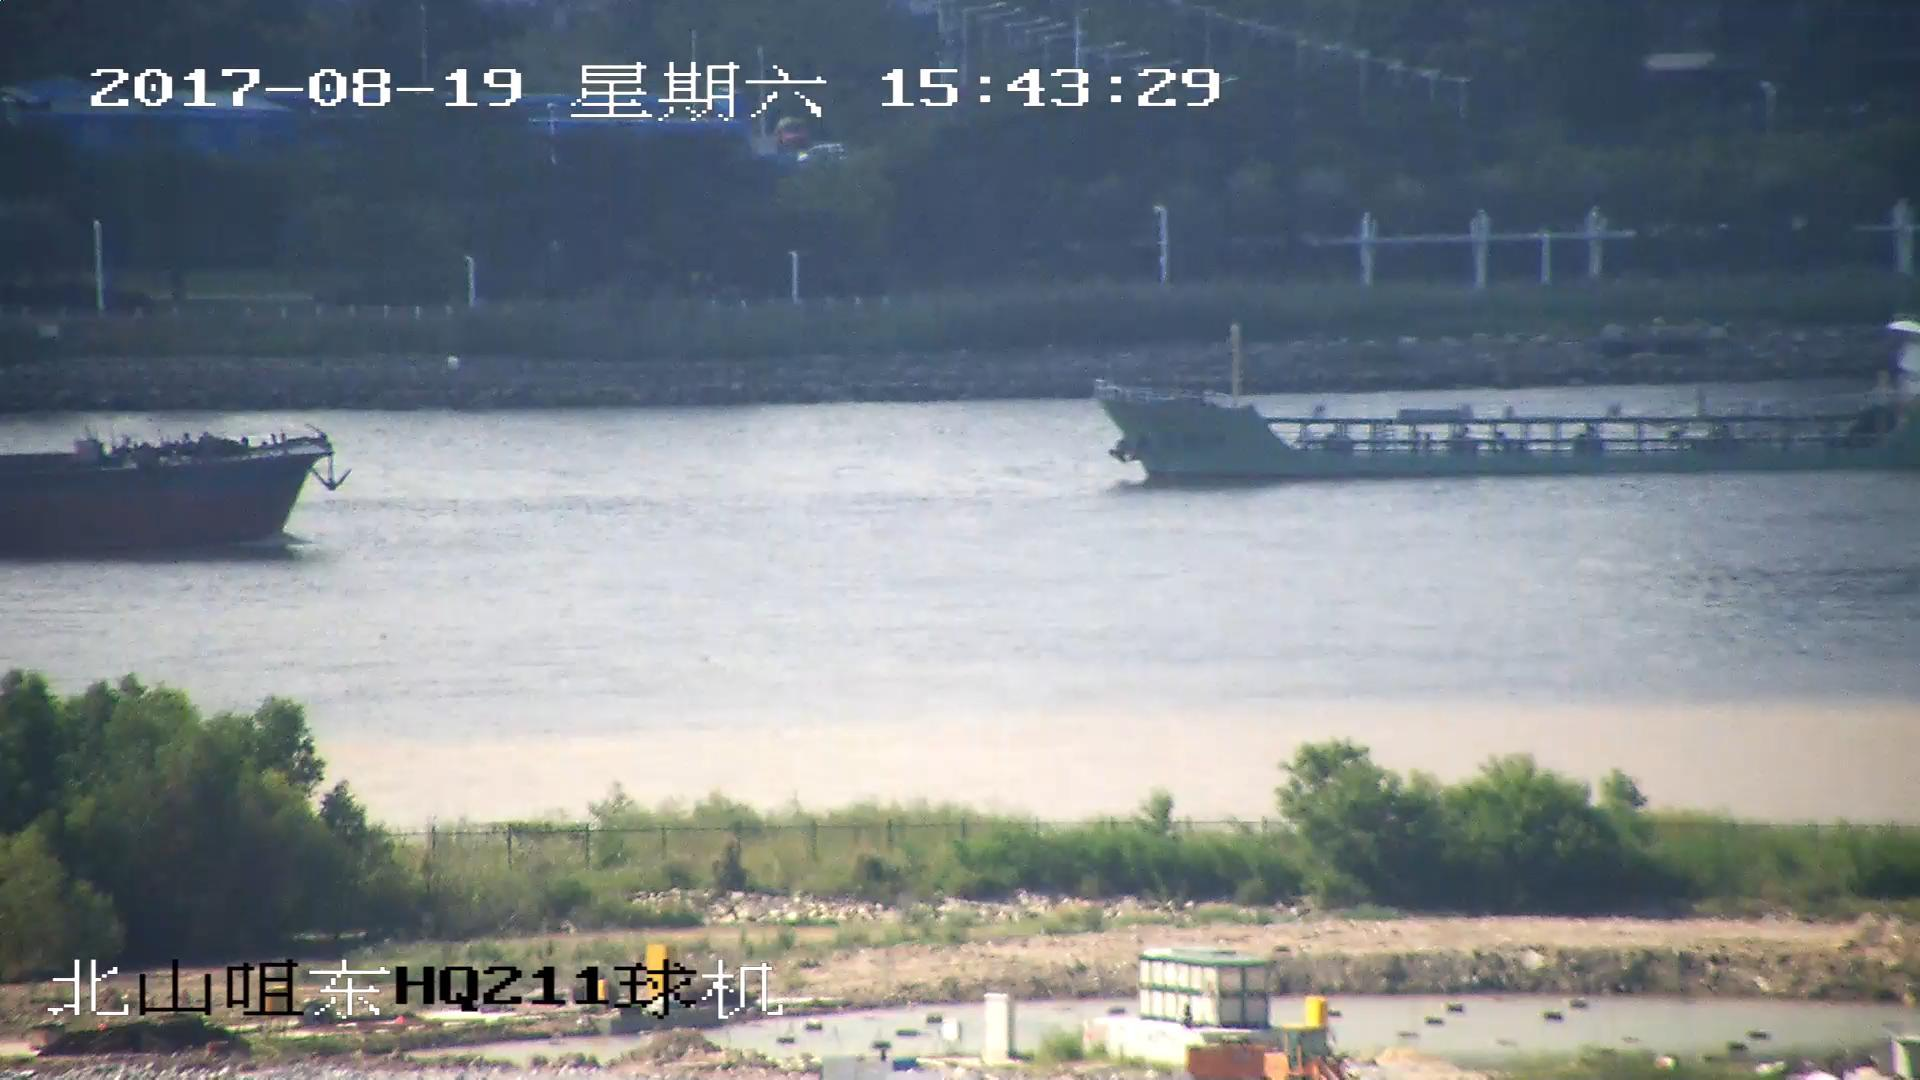Ship: (1102, 327, 1920, 481), (3, 433, 343, 546)
